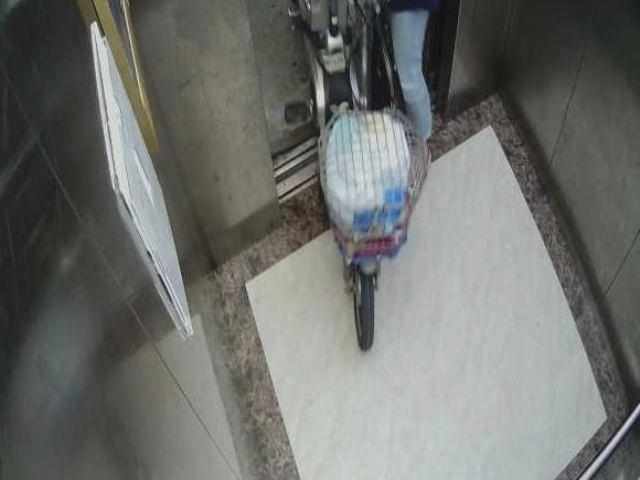emotor: (274, 2, 437, 360)
